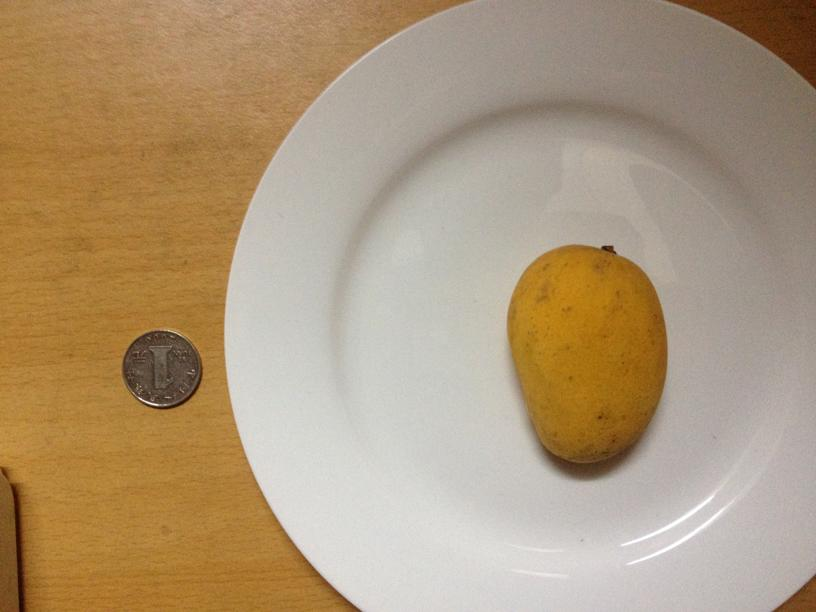coin: (118, 328, 202, 409)
mango: (508, 243, 666, 465)
